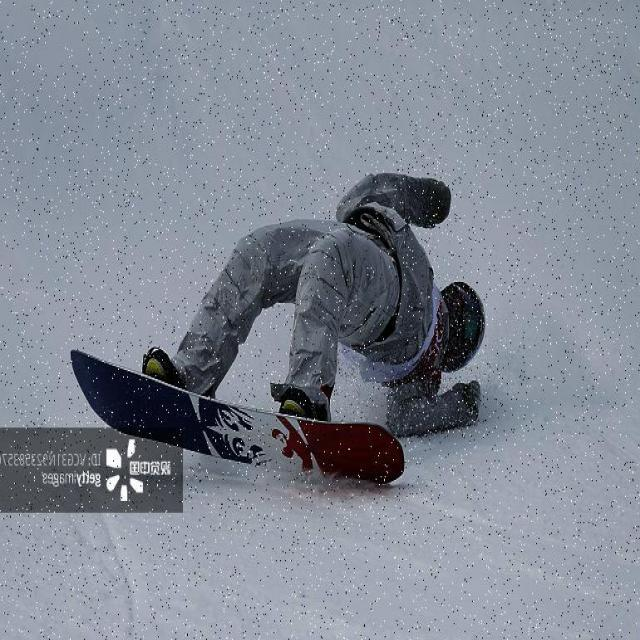fall: (175, 170, 478, 406)
